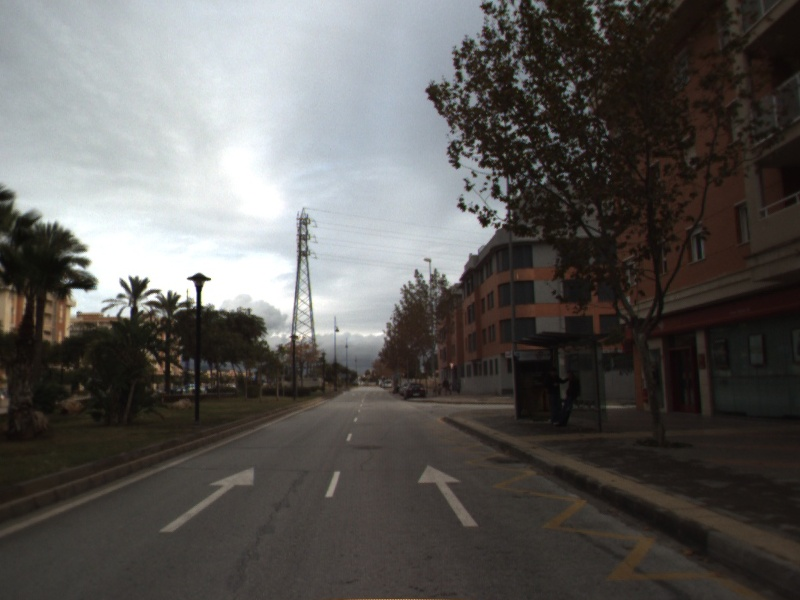STRAIGHT: (158, 465, 256, 534), (416, 463, 480, 528)
